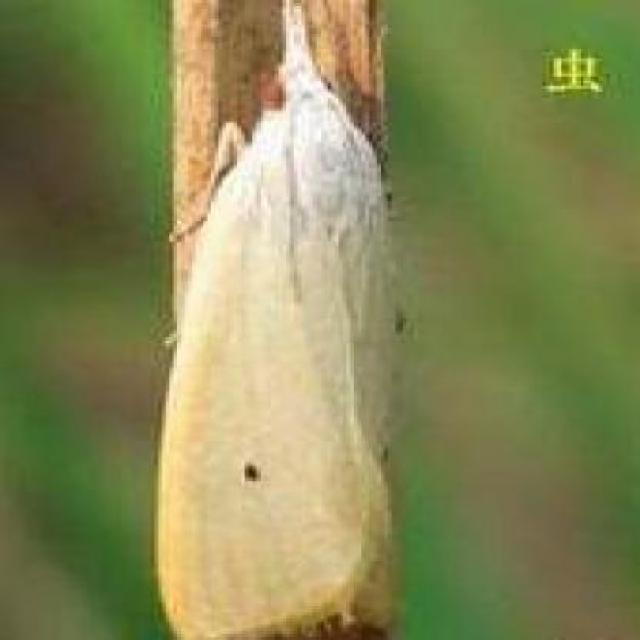stem-borer: (149, 0, 405, 640)
